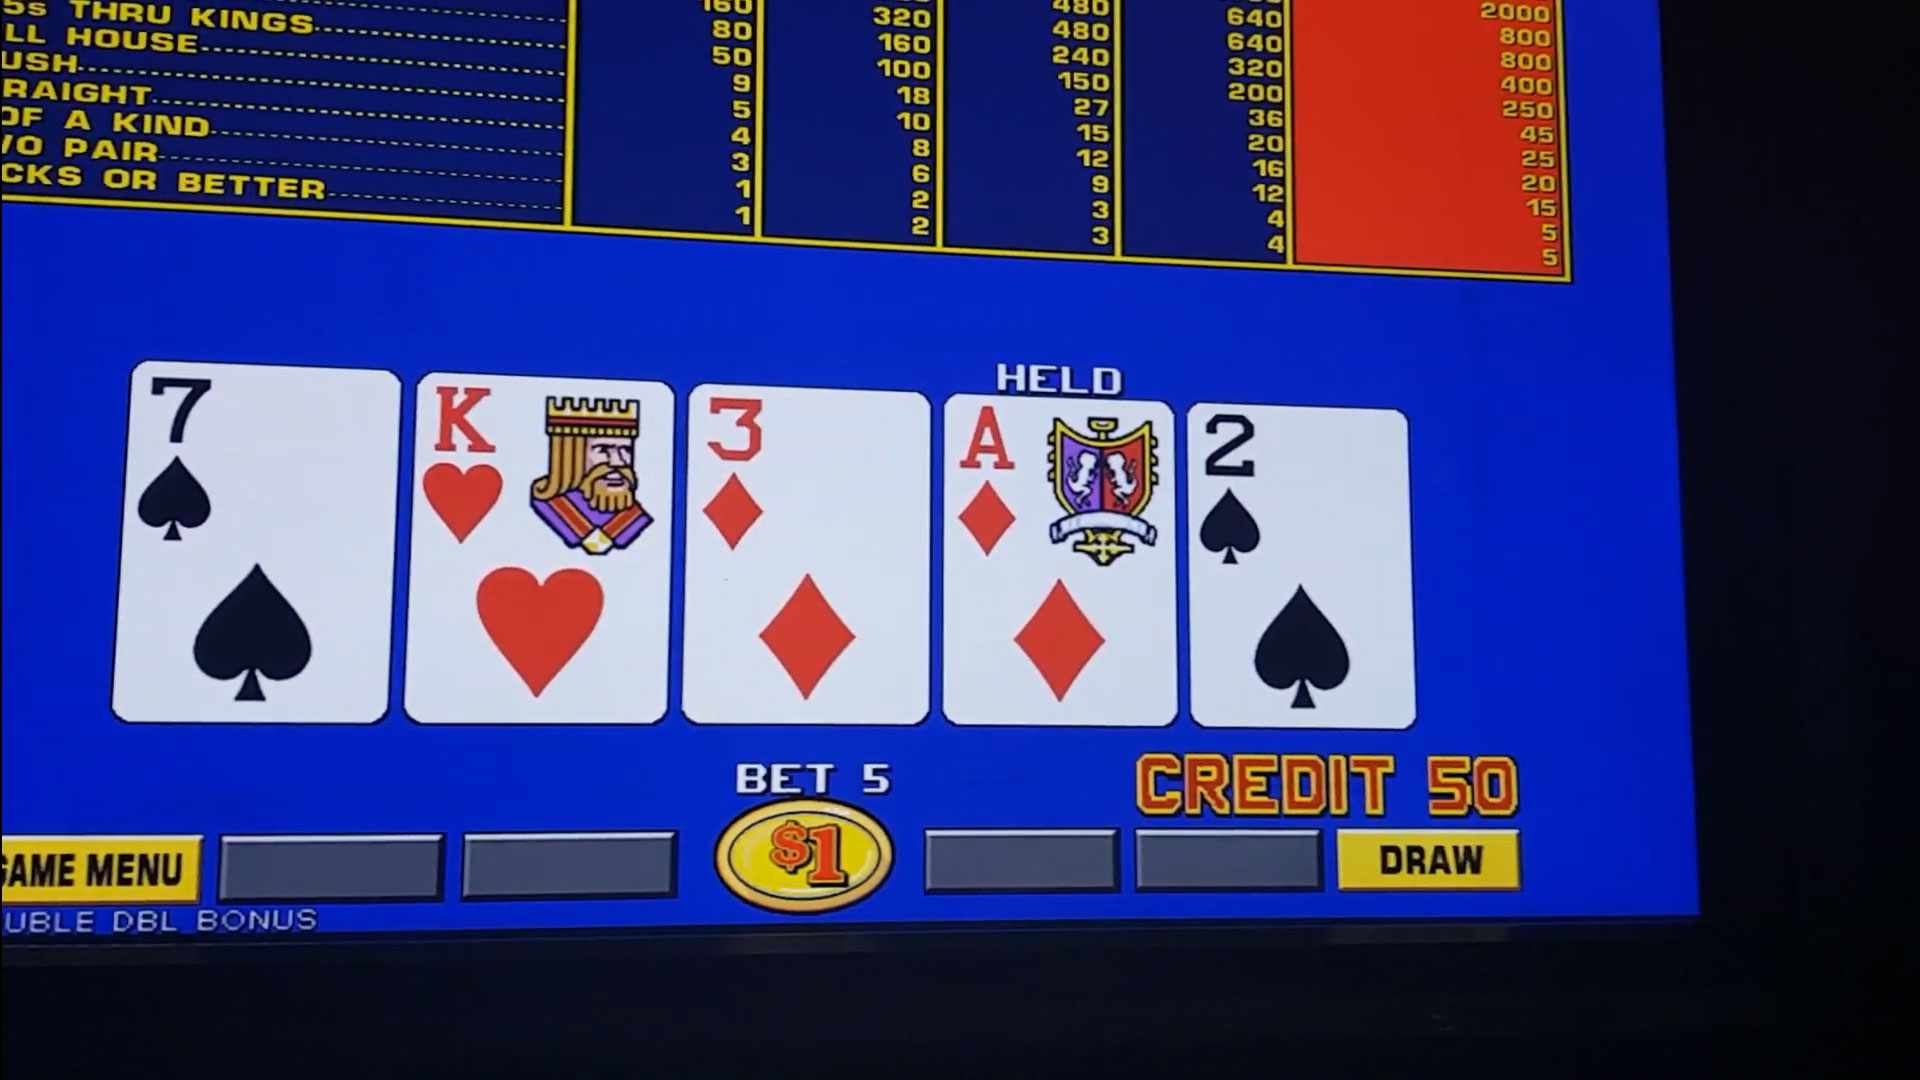D3: (694, 393, 924, 566)
DA: (945, 404, 1170, 582)
HK: (419, 385, 669, 555)
S2: (1196, 411, 1400, 578)
S7: (135, 378, 392, 553)
